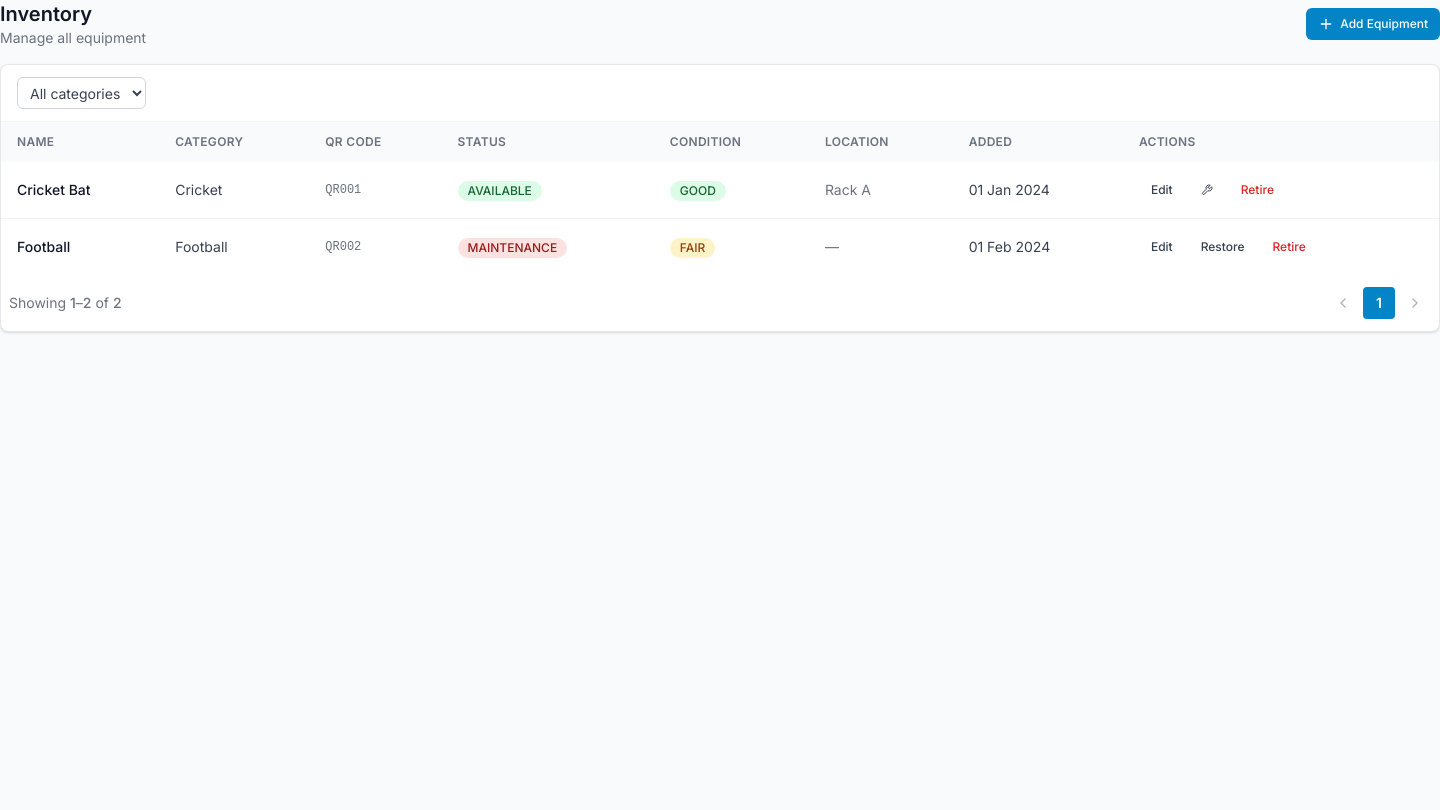
Test: InventoryPage › opens create dialog when Add Equipment is clicked
expect the text "Cricket Bat" is shown: met, box [1,162,159,218]
Click the button "Add Equipment" at x=1373, y=24, box [1306,8,1439,40]
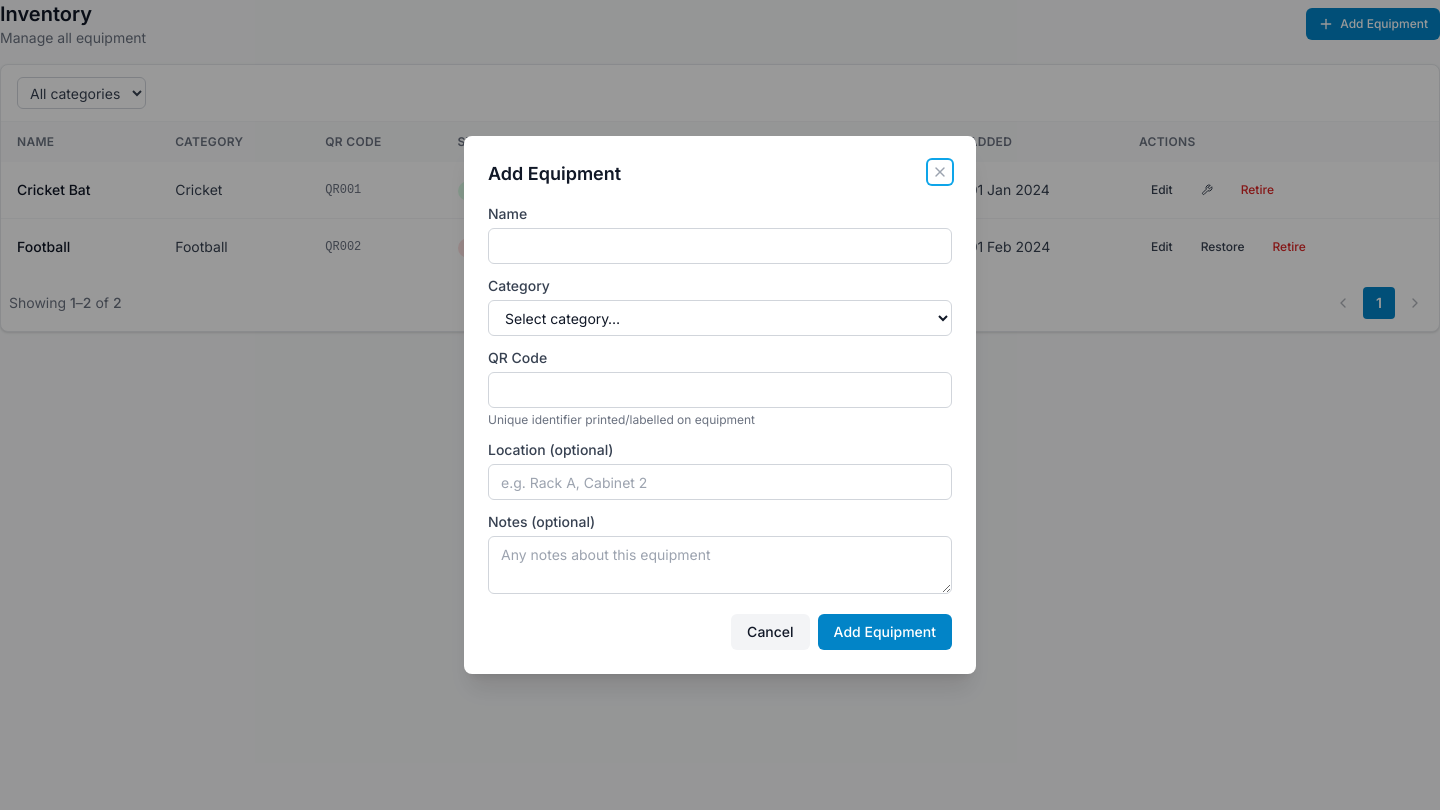
expect the text "Unique identifier printed/labelled on equipment" is shown: met, box [488,412,755,427]
